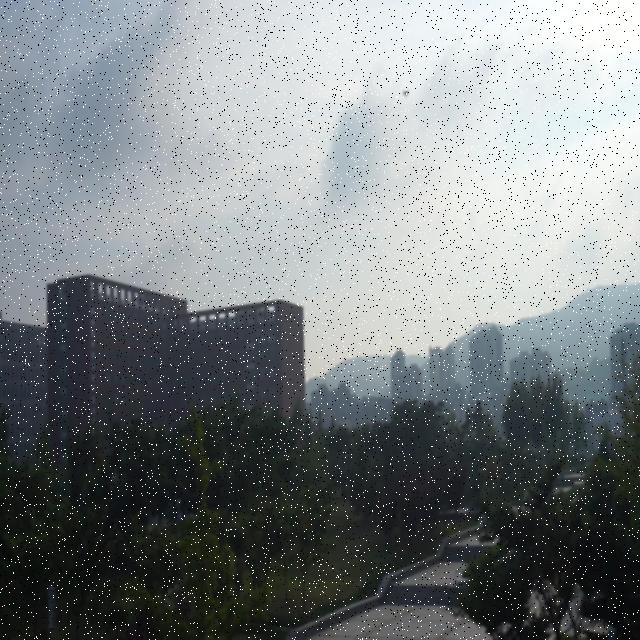UAV: (401, 88, 411, 98)
